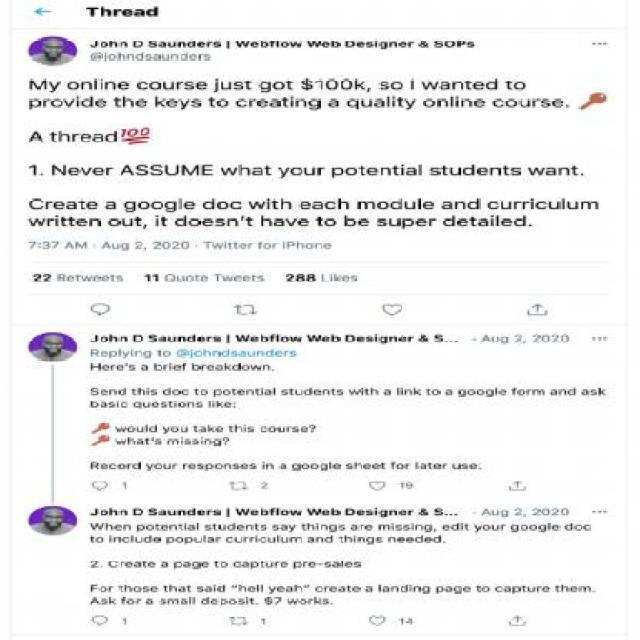0: (326, 79, 340, 90), (340, 79, 352, 90), (162, 242, 170, 250), (182, 242, 190, 250), (542, 334, 550, 342), (562, 334, 570, 342), (542, 508, 550, 516), (562, 508, 570, 516)
1: (29, 164, 37, 176), (314, 79, 322, 90), (144, 274, 150, 282), (152, 274, 158, 282), (260, 618, 266, 626), (399, 482, 404, 488), (399, 618, 404, 624), (122, 482, 126, 489), (122, 618, 126, 624)
2: (33, 274, 42, 282), (134, 242, 142, 250), (152, 242, 160, 250), (172, 242, 180, 250), (43, 274, 51, 282), (286, 274, 294, 282), (514, 334, 522, 342), (532, 334, 540, 342), (552, 334, 560, 342), (514, 508, 522, 516), (532, 508, 540, 516), (552, 508, 560, 516), (90, 560, 98, 568), (260, 482, 268, 489)
3: (42, 242, 50, 250)
4: (405, 618, 413, 626)
7: (50, 242, 59, 250), (28, 242, 36, 250), (274, 597, 282, 605)
8: (296, 274, 306, 282), (307, 274, 316, 282)
9: (405, 482, 413, 489)
A: (119, 164, 135, 176), (28, 132, 44, 142), (250, 167, 264, 176), (544, 167, 558, 176), (104, 201, 118, 210), (272, 218, 286, 227), (268, 99, 281, 108), (405, 167, 418, 176), (311, 201, 324, 210), (441, 201, 454, 210), (476, 218, 489, 227), (132, 8, 146, 16), (328, 99, 340, 108), (438, 82, 451, 90), (93, 133, 104, 142), (66, 201, 77, 210), (374, 99, 384, 108), (64, 242, 74, 250), (482, 334, 491, 342), (482, 508, 491, 516), (91, 597, 100, 605), (102, 242, 110, 250), (158, 42, 168, 48), (198, 427, 208, 433), (140, 364, 149, 370), (158, 510, 167, 516), (153, 54, 161, 60), (159, 336, 167, 342), (238, 351, 246, 357), (215, 364, 223, 370), (264, 390, 272, 396), (444, 390, 452, 396), (550, 390, 558, 396), (99, 402, 107, 408), (137, 438, 145, 444), (278, 463, 286, 469), (418, 463, 426, 469), (280, 524, 288, 530), (350, 524, 358, 530), (207, 537, 215, 543), (307, 537, 315, 543), (133, 562, 141, 568), (160, 562, 168, 568), (183, 562, 191, 568), (242, 562, 250, 568), (178, 586, 186, 592), (204, 586, 212, 592), (285, 586, 293, 592), (338, 586, 346, 592), (365, 586, 373, 592), (382, 586, 390, 592), (444, 586, 452, 592), (504, 586, 512, 592), (145, 598, 153, 604), (180, 598, 188, 604), (188, 524, 195, 530), (332, 562, 339, 568), (384, 390, 392, 395), (582, 390, 590, 395)
B: (344, 216, 358, 227), (331, 40, 340, 48), (260, 334, 269, 342), (260, 39, 268, 47), (154, 363, 162, 371), (192, 363, 200, 371), (260, 508, 268, 516), (332, 508, 340, 516), (90, 400, 98, 408), (332, 334, 339, 342)
C: (28, 198, 44, 210), (236, 99, 249, 108), (492, 99, 505, 108), (535, 201, 548, 210), (136, 82, 150, 90), (324, 201, 336, 210), (488, 201, 500, 210), (230, 202, 242, 210), (108, 560, 119, 568), (258, 537, 268, 543), (109, 463, 118, 469), (120, 402, 128, 408), (259, 427, 267, 433), (584, 524, 592, 530), (122, 537, 130, 543), (225, 537, 233, 543), (233, 562, 241, 568), (315, 586, 323, 592), (495, 586, 503, 592), (182, 390, 190, 395)
D: (442, 215, 455, 228), (462, 164, 475, 176), (202, 198, 215, 210), (466, 198, 479, 210), (514, 215, 526, 228), (80, 96, 94, 107), (390, 198, 402, 210), (146, 6, 159, 17), (485, 79, 498, 90), (175, 216, 188, 227), (105, 132, 118, 142), (344, 508, 356, 516), (132, 334, 143, 342), (132, 508, 143, 516), (346, 334, 356, 342), (187, 334, 196, 342), (303, 388, 312, 396), (564, 522, 573, 530), (143, 534, 152, 542), (118, 388, 127, 396), (133, 41, 144, 47), (222, 349, 230, 357), (232, 363, 240, 371), (162, 388, 170, 396), (568, 388, 576, 396), (149, 424, 157, 432), (324, 534, 332, 542), (414, 534, 422, 542), (433, 534, 441, 542), (400, 584, 408, 592), (200, 597, 208, 605), (266, 349, 274, 357), (188, 507, 195, 516), (346, 41, 356, 47), (132, 462, 140, 469), (228, 523, 235, 531), (452, 522, 459, 530), (218, 584, 225, 592), (187, 41, 196, 47), (136, 53, 144, 59), (180, 53, 188, 59)
E: (201, 164, 214, 176), (52, 201, 66, 210), (456, 218, 470, 227), (95, 99, 108, 108), (135, 99, 148, 108), (166, 99, 179, 108), (256, 99, 269, 108), (551, 99, 564, 108), (79, 133, 92, 142), (366, 167, 379, 176), (476, 167, 489, 176), (299, 201, 312, 210), (422, 201, 435, 210), (75, 218, 88, 227), (201, 218, 214, 227), (415, 218, 428, 227), (501, 218, 514, 227), (86, 201, 99, 210), (182, 201, 195, 210), (68, 167, 80, 176), (298, 218, 310, 227), (358, 218, 370, 227), (474, 99, 486, 108), (121, 9, 134, 17), (195, 82, 208, 90), (472, 82, 485, 90), (93, 167, 104, 176), (118, 82, 130, 90), (357, 509, 365, 517), (356, 42, 366, 48), (398, 42, 408, 48), (498, 390, 508, 396), (276, 586, 286, 592), (462, 586, 472, 592), (197, 42, 206, 48), (250, 42, 259, 48), (197, 336, 206, 342), (250, 336, 259, 342), (274, 351, 283, 357), (197, 510, 206, 516), (250, 510, 259, 516), (398, 510, 407, 516), (237, 524, 246, 530), (200, 562, 209, 568), (248, 586, 257, 592), (322, 42, 330, 48), (189, 54, 197, 60), (239, 243, 247, 249), (324, 243, 332, 249), (68, 276, 76, 282), (93, 276, 101, 282), (102, 276, 110, 282), (200, 276, 208, 282), (233, 276, 241, 282), (242, 276, 250, 282), (357, 336, 365, 342), (399, 336, 407, 342), (117, 364, 125, 370), (173, 364, 181, 370), (207, 364, 215, 370), (100, 390, 108, 396), (313, 390, 321, 396), (152, 402, 160, 408), (224, 402, 232, 408), (215, 427, 223, 433), (300, 426, 308, 432), (100, 463, 108, 469), (188, 463, 196, 469), (240, 463, 248, 469), (333, 463, 341, 469), (363, 463, 371, 469), (372, 463, 380, 469), (433, 463, 441, 469), (469, 463, 477, 469), (114, 524, 122, 530), (160, 524, 168, 530), (364, 524, 372, 530), (442, 524, 450, 530), (153, 537, 161, 543), (398, 537, 406, 543), (405, 537, 413, 543), (424, 537, 432, 543), (124, 562, 132, 568), (148, 562, 156, 568), (280, 562, 288, 568), (308, 562, 316, 568), (344, 562, 352, 568), (150, 586, 158, 592), (329, 586, 337, 592), (352, 586, 360, 592), (542, 586, 550, 592), (570, 586, 578, 592), (210, 598, 218, 604), (101, 365, 110, 370), (342, 276, 349, 282), (322, 336, 329, 342), (238, 390, 245, 396), (322, 510, 329, 516), (552, 525, 560, 530), (100, 352, 108, 356)
F: (90, 584, 98, 592), (258, 240, 264, 248), (270, 334, 276, 342), (270, 508, 276, 516), (390, 462, 396, 469), (182, 363, 187, 371), (512, 388, 517, 396), (270, 41, 276, 47), (122, 597, 126, 605)
G: (307, 98, 321, 111), (124, 200, 138, 212), (165, 200, 178, 212), (259, 81, 272, 92), (379, 41, 388, 50), (212, 438, 222, 446), (379, 336, 387, 344), (458, 389, 466, 397), (486, 389, 494, 397), (292, 464, 300, 472), (320, 463, 328, 471), (380, 510, 388, 518), (329, 524, 337, 532), (424, 524, 432, 532), (538, 524, 546, 532), (367, 537, 375, 545), (192, 562, 200, 570), (422, 586, 430, 594), (454, 586, 462, 594), (122, 243, 130, 251), (511, 524, 518, 532), (501, 336, 508, 344), (143, 351, 151, 358), (501, 510, 508, 518)
H: (238, 164, 251, 176), (279, 198, 292, 210), (338, 198, 350, 210), (99, 6, 112, 17), (122, 96, 135, 107), (260, 216, 272, 227), (58, 132, 71, 142), (90, 363, 101, 371), (110, 334, 118, 342), (203, 349, 211, 357), (138, 388, 146, 396), (128, 437, 136, 445), (110, 508, 118, 516), (105, 522, 113, 530), (307, 522, 315, 530), (344, 534, 352, 542), (124, 584, 132, 592), (169, 584, 177, 592), (239, 584, 247, 592), (294, 584, 302, 592), (560, 584, 568, 592), (296, 242, 304, 250), (371, 388, 378, 396), (235, 424, 242, 432), (354, 462, 362, 469), (110, 41, 118, 47), (118, 53, 126, 59)
I: (266, 198, 271, 210), (530, 198, 535, 210), (455, 96, 460, 107), (400, 163, 405, 174), (490, 216, 495, 227), (392, 96, 396, 107), (55, 216, 59, 227), (100, 79, 103, 90), (76, 96, 79, 107), (291, 96, 294, 107), (374, 39, 378, 47), (282, 242, 286, 250), (374, 334, 378, 342), (374, 508, 378, 516), (224, 240, 227, 248), (330, 274, 333, 282), (146, 388, 149, 396), (261, 388, 264, 396), (361, 388, 364, 396), (174, 400, 177, 408), (212, 400, 215, 408), (243, 424, 246, 432), (181, 437, 184, 445), (201, 437, 204, 445), (262, 462, 266, 468), (184, 522, 187, 530), (461, 522, 464, 530), (255, 534, 258, 542), (213, 584, 216, 592), (156, 216, 158, 227), (412, 79, 414, 90), (132, 349, 134, 357), (170, 362, 172, 370), (402, 388, 404, 396), (116, 399, 118, 407), (316, 522, 318, 530), (392, 522, 394, 530), (412, 522, 414, 530), (110, 534, 112, 542), (354, 535, 356, 543), (410, 584, 412, 592), (246, 597, 248, 605)
J: (212, 78, 218, 92), (90, 334, 98, 342), (90, 508, 98, 516), (90, 41, 98, 47), (104, 52, 107, 62), (190, 349, 193, 358)
K: (354, 79, 368, 90), (154, 96, 168, 107), (224, 363, 232, 371), (413, 388, 421, 396), (598, 388, 606, 396), (108, 597, 116, 605), (208, 424, 215, 432), (334, 274, 340, 282), (217, 400, 223, 408), (314, 597, 320, 605)
L: (322, 274, 329, 282), (450, 96, 455, 107), (418, 164, 422, 176), (94, 78, 97, 90), (387, 96, 390, 107), (494, 388, 498, 396), (144, 424, 148, 432), (188, 596, 192, 604), (276, 39, 279, 47), (180, 198, 182, 210), (562, 198, 564, 210), (276, 334, 279, 342), (276, 508, 279, 516), (196, 522, 199, 530), (203, 535, 206, 543), (277, 535, 280, 543), (256, 584, 259, 592), (261, 584, 264, 592), (192, 597, 195, 605), (496, 216, 498, 227), (418, 198, 420, 208), (118, 348, 120, 356), (274, 388, 276, 396), (396, 388, 398, 396), (208, 400, 210, 408), (548, 522, 550, 530), (132, 535, 134, 543), (342, 560, 344, 568), (378, 584, 380, 592), (330, 462, 332, 469), (416, 462, 418, 469)
M: (182, 164, 200, 176), (29, 79, 46, 90), (357, 201, 375, 210), (580, 201, 598, 210), (75, 242, 88, 250), (532, 390, 545, 396), (167, 438, 180, 444), (289, 537, 302, 543), (578, 586, 591, 592), (167, 598, 180, 604), (378, 525, 390, 530)
N: (50, 164, 66, 176), (104, 81, 118, 90), (451, 81, 464, 90), (295, 99, 308, 108), (436, 99, 449, 108), (461, 99, 474, 108), (379, 167, 392, 176), (489, 167, 502, 176), (227, 218, 240, 227), (80, 82, 94, 90), (558, 167, 570, 176), (88, 218, 101, 226), (454, 202, 466, 210), (119, 42, 128, 48), (177, 42, 186, 48), (390, 42, 398, 48), (127, 54, 135, 60), (170, 53, 178, 59), (314, 243, 322, 249), (119, 336, 127, 342), (389, 336, 397, 342), (256, 350, 264, 356), (246, 390, 254, 396), (322, 390, 330, 396), (204, 438, 212, 444), (224, 463, 232, 469), (119, 510, 127, 516), (389, 510, 397, 516), (123, 524, 131, 530), (169, 524, 177, 530), (245, 524, 253, 530), (320, 524, 328, 530), (414, 524, 422, 530), (113, 536, 121, 542), (358, 537, 366, 543), (388, 537, 396, 543), (413, 586, 421, 592), (178, 336, 185, 342), (178, 510, 185, 516), (391, 586, 398, 592), (262, 365, 270, 370), (109, 390, 117, 395), (404, 390, 412, 395), (558, 390, 566, 395), (187, 402, 195, 407), (316, 537, 322, 543), (134, 352, 142, 356), (212, 352, 220, 356), (265, 464, 273, 468)
O: (148, 81, 162, 90), (390, 81, 404, 90), (50, 99, 64, 108), (422, 99, 436, 108), (504, 99, 518, 108), (344, 167, 358, 176), (137, 201, 151, 210), (216, 201, 230, 210), (376, 201, 390, 210), (107, 218, 121, 227), (188, 218, 202, 227), (324, 218, 338, 227), (217, 99, 230, 108), (150, 201, 163, 210), (272, 82, 286, 90), (512, 82, 526, 90), (290, 167, 302, 176), (68, 82, 80, 90), (444, 41, 456, 47), (281, 42, 290, 48), (108, 54, 117, 60), (280, 336, 289, 342), (154, 463, 163, 469), (280, 510, 289, 516), (574, 524, 583, 530), (174, 537, 183, 543), (99, 586, 108, 592), (228, 598, 237, 604), (100, 42, 108, 48), (263, 243, 271, 249), (305, 243, 313, 249), (185, 276, 193, 282), (100, 336, 108, 342), (163, 350, 171, 356), (194, 350, 202, 356), (242, 364, 250, 370), (200, 390, 208, 396), (127, 426, 135, 432), (170, 426, 178, 432), (268, 426, 276, 432), (118, 463, 126, 469), (302, 463, 310, 469), (310, 464, 318, 470), (397, 463, 405, 469), (100, 510, 108, 516), (146, 524, 154, 530), (482, 524, 490, 530), (520, 524, 528, 530), (530, 524, 538, 530), (95, 537, 103, 543), (220, 562, 228, 568), (133, 586, 141, 592), (482, 586, 490, 592), (127, 598, 135, 604), (299, 598, 307, 604), (178, 402, 185, 408), (172, 390, 180, 395), (222, 390, 230, 395), (432, 390, 440, 395), (468, 390, 476, 395), (476, 390, 484, 395), (518, 390, 526, 395), (214, 464, 223, 468)
P: (401, 218, 414, 230), (28, 99, 42, 110), (331, 168, 344, 178), (286, 242, 296, 250), (204, 464, 213, 472), (214, 389, 222, 397), (137, 524, 145, 532), (167, 537, 175, 545), (174, 562, 182, 570), (250, 562, 258, 570), (293, 562, 301, 570), (435, 586, 443, 594), (512, 586, 520, 594), (220, 598, 228, 606), (109, 351, 117, 358), (185, 537, 192, 545), (457, 41, 466, 47)
Q: (346, 99, 359, 110), (165, 274, 178, 283), (132, 402, 142, 409)
R: (113, 9, 122, 17), (176, 81, 184, 90), (248, 99, 256, 108), (532, 99, 540, 108), (105, 167, 113, 176), (318, 167, 326, 176), (45, 201, 53, 210), (522, 201, 530, 210), (57, 274, 66, 282), (91, 349, 100, 357), (43, 99, 51, 107), (428, 218, 436, 226), (91, 462, 100, 469), (514, 201, 520, 210), (73, 134, 79, 142), (48, 218, 54, 226), (206, 42, 212, 48), (408, 42, 414, 48), (198, 54, 204, 60), (248, 243, 254, 249), (272, 243, 278, 249), (206, 336, 212, 342), (408, 336, 414, 342), (206, 510, 212, 516), (500, 524, 506, 530), (274, 562, 280, 568), (108, 586, 114, 592), (286, 426, 292, 432), (526, 390, 532, 395), (408, 510, 414, 515), (360, 524, 365, 530), (120, 562, 126, 567), (536, 586, 541, 592), (136, 599, 142, 604), (308, 599, 314, 604), (163, 365, 168, 370), (303, 562, 308, 567), (284, 350, 288, 356), (126, 464, 132, 468), (172, 464, 178, 468), (442, 464, 448, 468), (216, 538, 222, 542), (324, 586, 328, 592), (111, 365, 115, 370), (202, 365, 206, 370), (183, 464, 188, 468), (405, 464, 410, 468), (250, 538, 255, 542), (244, 538, 248, 542)
S: (150, 164, 164, 176), (136, 164, 149, 176), (232, 81, 245, 90), (378, 81, 391, 90), (215, 218, 228, 227), (190, 99, 202, 108), (510, 167, 522, 176), (182, 82, 195, 90), (540, 99, 551, 108), (430, 167, 441, 176), (377, 218, 388, 227), (433, 40, 444, 48), (148, 334, 158, 342), (148, 508, 158, 516), (434, 334, 443, 342), (90, 388, 99, 396), (434, 508, 443, 516), (148, 41, 158, 47), (212, 42, 222, 48), (212, 510, 222, 516), (365, 42, 373, 48), (467, 42, 475, 48), (144, 54, 152, 60), (203, 54, 211, 60), (115, 276, 123, 282), (257, 276, 265, 282), (350, 276, 358, 282), (212, 336, 220, 342), (365, 336, 373, 342), (289, 351, 297, 357), (128, 364, 136, 370), (336, 390, 344, 396), (108, 402, 116, 408), (160, 402, 168, 408), (195, 402, 203, 408), (247, 426, 255, 432), (292, 427, 300, 433), (154, 438, 162, 444), (184, 438, 192, 444), (197, 463, 205, 469), (232, 464, 240, 470), (249, 464, 257, 470), (345, 463, 353, 469), (365, 510, 373, 516), (204, 524, 212, 530), (272, 524, 280, 530), (403, 524, 411, 530), (375, 537, 383, 543), (324, 562, 332, 568), (353, 562, 361, 568), (142, 586, 150, 592), (197, 586, 205, 592), (100, 598, 108, 604), (158, 598, 166, 604), (461, 464, 468, 470), (238, 598, 245, 604), (322, 598, 329, 604), (150, 390, 158, 395), (589, 390, 597, 395), (260, 525, 268, 530), (338, 525, 346, 530), (394, 525, 402, 530), (192, 438, 198, 444), (230, 352, 238, 356), (282, 390, 288, 395)
T: (86, 7, 99, 16), (48, 132, 58, 142), (244, 79, 252, 90), (285, 79, 293, 90), (464, 79, 472, 90), (505, 79, 513, 90), (113, 97, 121, 108), (396, 97, 404, 108), (358, 166, 366, 177), (502, 166, 510, 177), (570, 166, 578, 177), (78, 199, 86, 210), (270, 199, 278, 210), (469, 216, 477, 227), (202, 242, 212, 250), (392, 166, 399, 177), (245, 216, 252, 227), (208, 97, 214, 108), (282, 97, 288, 108), (264, 166, 270, 177), (442, 166, 448, 177), (60, 216, 66, 227), (68, 216, 74, 227), (134, 216, 140, 227), (161, 216, 167, 227), (316, 216, 322, 227), (214, 274, 222, 282), (156, 349, 162, 357), (228, 424, 234, 432), (178, 523, 184, 531), (380, 462, 386, 469), (233, 242, 238, 250), (193, 424, 198, 432), (226, 242, 232, 248), (194, 274, 200, 280), (254, 388, 260, 394), (330, 388, 336, 394), (364, 388, 370, 394), (168, 401, 174, 407), (144, 438, 150, 444), (154, 524, 160, 530), (254, 524, 260, 530), (118, 586, 124, 592), (186, 586, 192, 592), (522, 586, 528, 592), (464, 523, 468, 531), (214, 560, 218, 568), (75, 274, 80, 280), (289, 388, 294, 394), (426, 388, 431, 394), (212, 524, 217, 530), (90, 536, 95, 542), (339, 536, 344, 542), (142, 561, 147, 567), (259, 561, 264, 567), (346, 586, 351, 592), (476, 586, 481, 592), (555, 586, 560, 592), (249, 598, 254, 604), (111, 274, 115, 280), (252, 274, 256, 280), (132, 388, 136, 394), (194, 388, 198, 394), (232, 388, 236, 394), (428, 463, 432, 469), (302, 524, 306, 530), (164, 586, 168, 592)
U: (166, 164, 180, 176), (302, 167, 316, 176), (162, 81, 175, 90), (518, 99, 531, 108), (121, 218, 134, 227), (388, 218, 401, 227), (566, 202, 580, 210), (360, 99, 372, 108), (404, 201, 416, 210), (548, 201, 560, 210), (220, 82, 232, 90), (449, 168, 462, 175), (500, 202, 511, 210), (168, 42, 176, 48), (162, 54, 170, 60), (112, 243, 120, 249), (177, 276, 185, 282), (168, 336, 176, 342), (142, 402, 150, 408), (180, 427, 188, 433), (278, 426, 286, 432), (168, 510, 176, 516), (134, 537, 142, 543), (194, 537, 202, 543), (268, 537, 276, 543), (280, 537, 288, 543), (265, 562, 273, 568), (528, 586, 536, 592), (492, 336, 500, 342), (218, 525, 227, 530), (235, 537, 242, 543), (492, 510, 499, 516), (294, 390, 302, 395), (492, 525, 500, 530), (137, 428, 145, 432), (163, 464, 171, 468), (452, 464, 460, 468), (248, 352, 255, 356)
V: (62, 99, 76, 108), (285, 218, 298, 227), (80, 167, 92, 176)
W: (422, 81, 440, 90), (528, 167, 546, 176), (28, 218, 46, 227), (220, 167, 237, 176), (248, 201, 264, 210), (306, 40, 322, 48), (306, 334, 322, 342), (306, 508, 322, 516), (236, 334, 250, 342), (236, 508, 250, 516), (90, 522, 104, 530), (236, 41, 250, 47), (114, 426, 128, 432), (114, 438, 128, 444), (288, 510, 302, 516), (286, 598, 300, 604), (289, 42, 302, 48), (211, 243, 224, 249), (249, 364, 262, 370), (290, 336, 302, 342), (81, 276, 92, 282), (222, 276, 233, 282), (349, 390, 360, 395)
Y: (404, 99, 418, 110), (48, 81, 61, 92), (178, 99, 191, 110), (278, 168, 290, 178), (162, 426, 170, 434), (145, 464, 153, 472), (288, 524, 296, 532), (474, 524, 482, 532), (268, 586, 276, 594), (122, 351, 130, 358)
